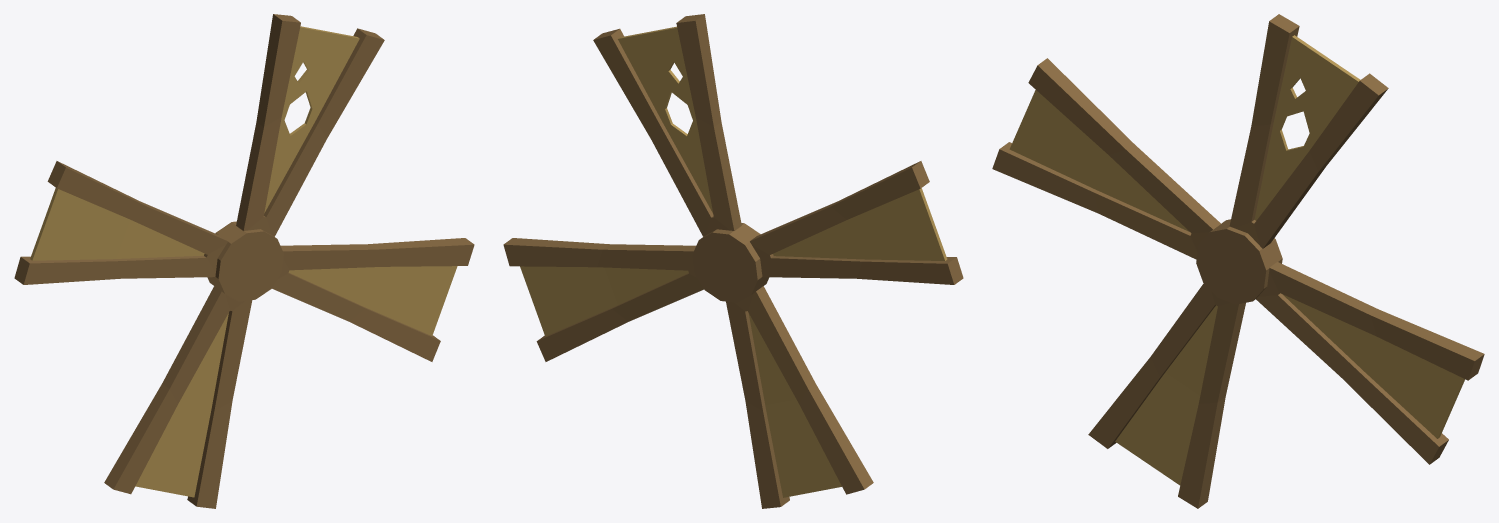
File: Windmill_SecodAge-Mill.glb
3 renders of one model, left to right at view 1: azimuth 30°, elevation 25°; view 2: azimuth 150°, elevation 25°; view 3: azimuth 330°, elevation 25°, orthographic. The views are drawn at different scales.
Parts seen in each view (by area): view 1: Windmill_SecondAge.001; view 2: Windmill_SecondAge.001; view 3: Windmill_SecondAge.001.
Boxes of the visible parts, x1,y1,x2,y2 form: Windmill_SecondAge.001: (14, 14, 474, 508); Windmill_SecondAge.001: (503, 14, 963, 508); Windmill_SecondAge.001: (992, 14, 1484, 508).
Size of the model in its own units: 1.34 by 1.34 by 0.0787.
